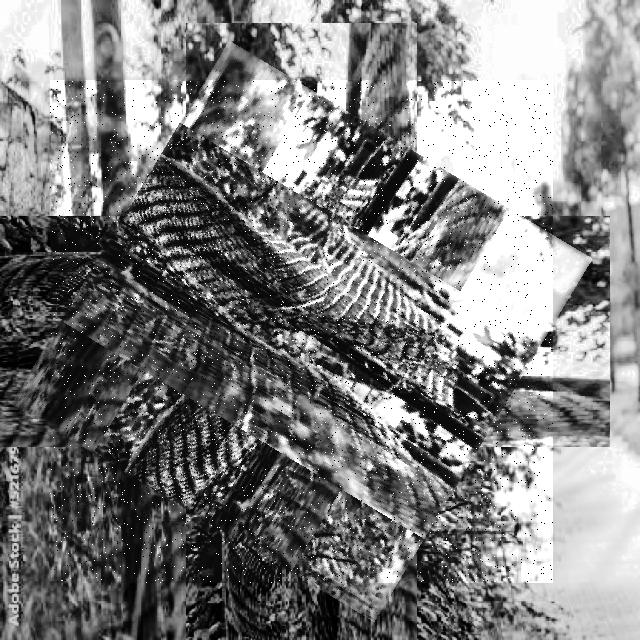anomaly-fence: (50, 80, 553, 583)
